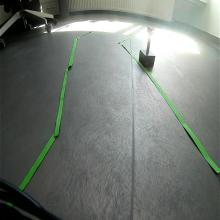red: (147, 26, 156, 36)
